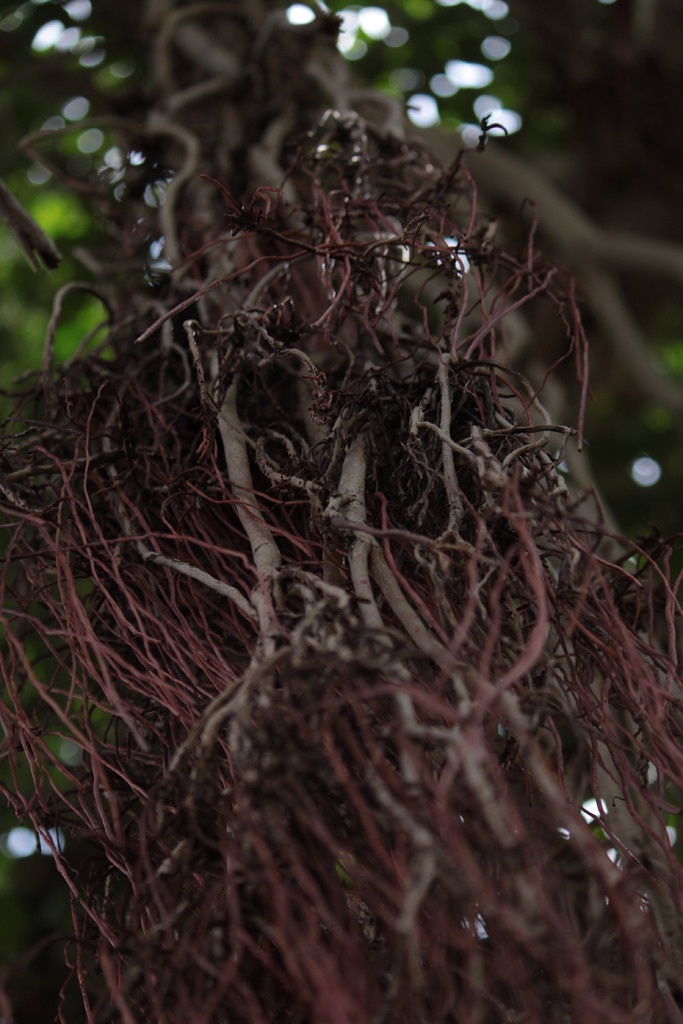Tree: (0, 0, 683, 1022)
